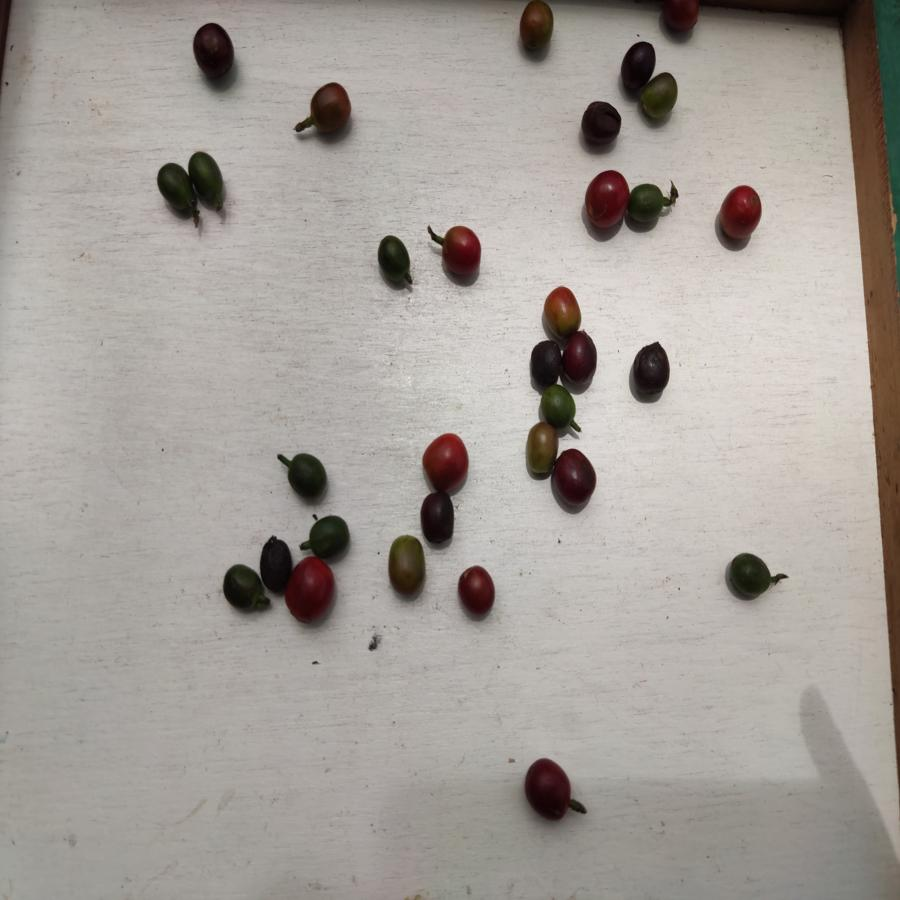Inmaduro: (154, 161, 197, 219), (281, 453, 331, 501), (729, 549, 771, 602), (189, 151, 227, 207), (373, 231, 411, 285), (223, 565, 262, 614), (630, 182, 673, 226), (307, 516, 351, 555), (542, 387, 577, 429)
Maduro: (285, 558, 340, 627), (423, 430, 469, 491), (719, 181, 764, 243), (585, 171, 629, 231), (441, 223, 485, 282), (458, 566, 499, 616), (664, 1, 701, 36)
Pinton: (307, 81, 356, 134), (387, 534, 427, 593), (515, 5, 560, 55), (543, 286, 585, 333), (523, 424, 557, 477), (643, 73, 679, 121)
Sobremaduro: (523, 757, 571, 821), (192, 22, 237, 81), (629, 340, 672, 399), (555, 447, 599, 503), (581, 99, 623, 145), (420, 491, 457, 543), (561, 335, 599, 382), (261, 537, 293, 588), (620, 39, 654, 84), (530, 339, 561, 385)
